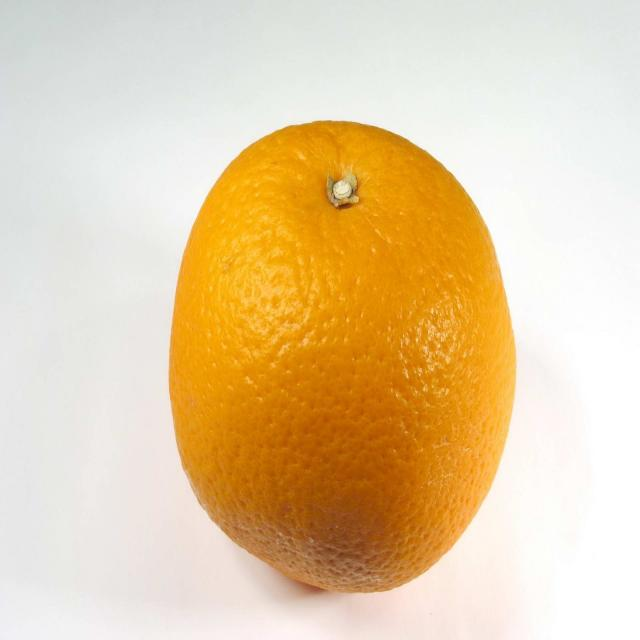Orange: (169, 117, 522, 593)
